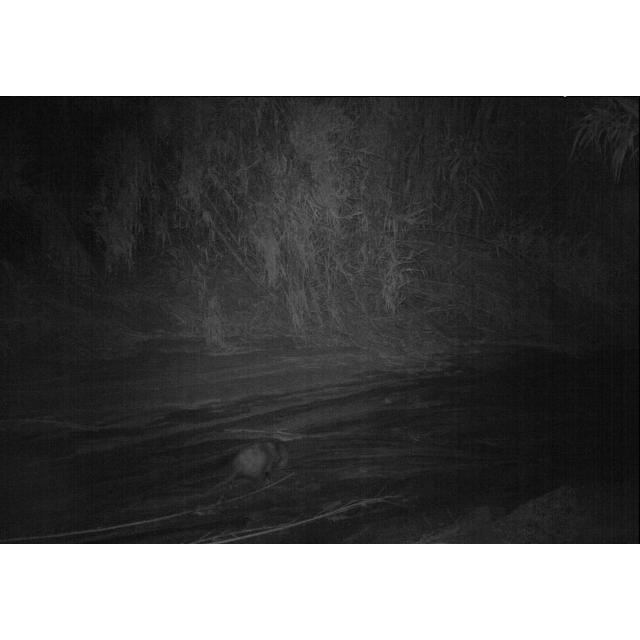animals: (216, 438, 284, 488)
